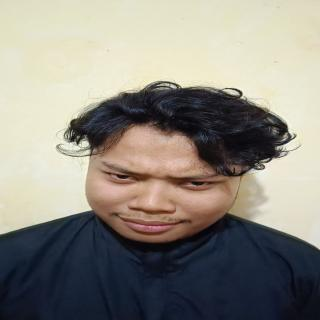Marah: (83, 122, 253, 246)
